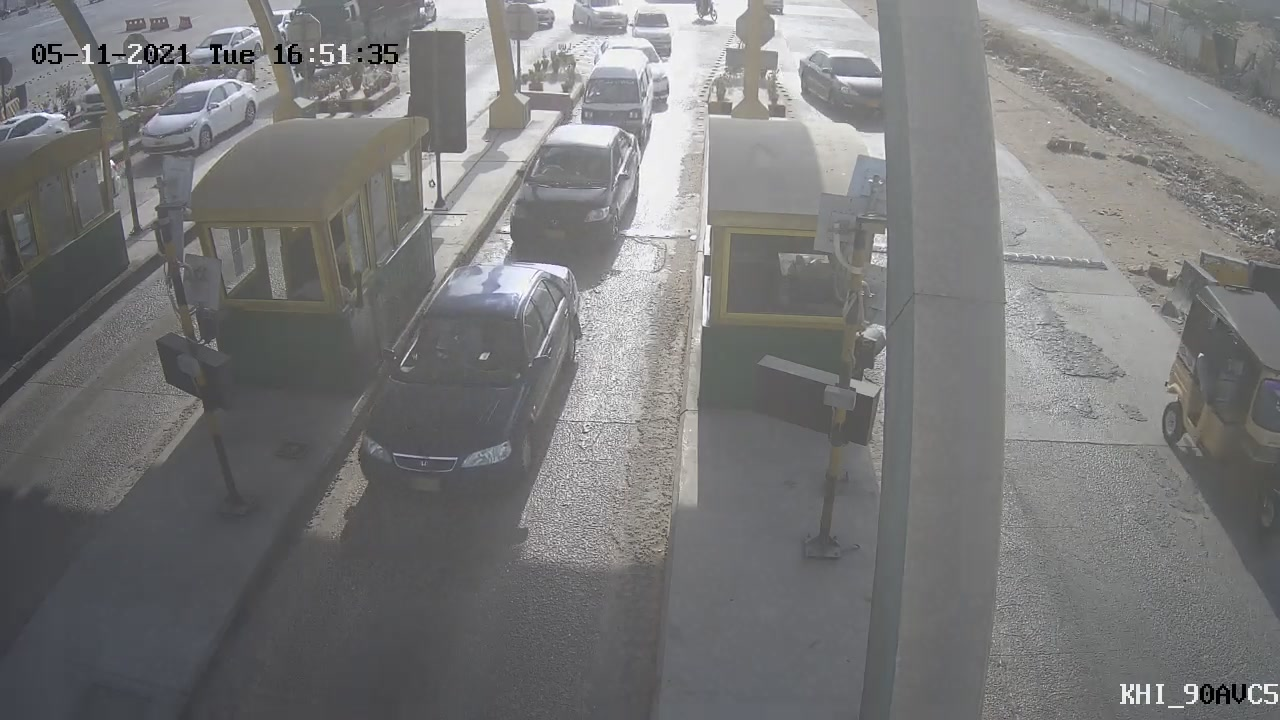F1: (325, 236, 607, 520), (492, 108, 655, 266)
